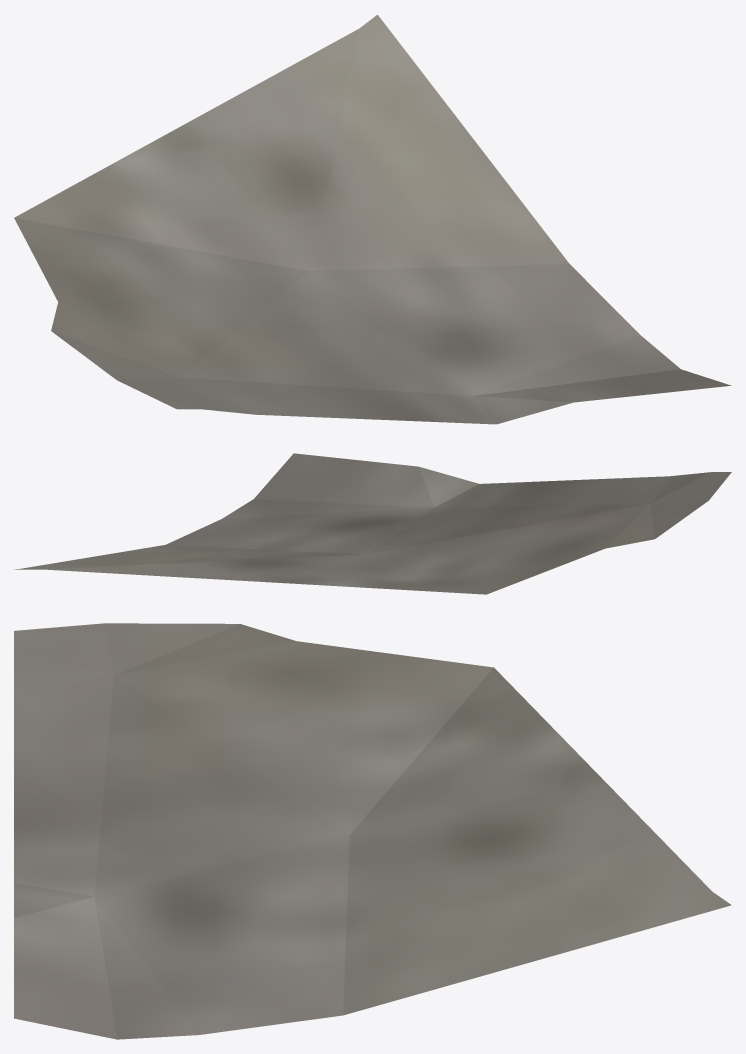
3 views of the same model, one above another, from view 1: azimuth 30°, elevation 25°; view 2: azimuth 150°, elevation 25°; view 3: azimuth 270°, elevation 25° (orthographic). The views are drawn at different scales.
Bounding box in the file's own units: 0.3013 × 0.067 × 0.3243.
Materials: 1 (1 with a texture image).
